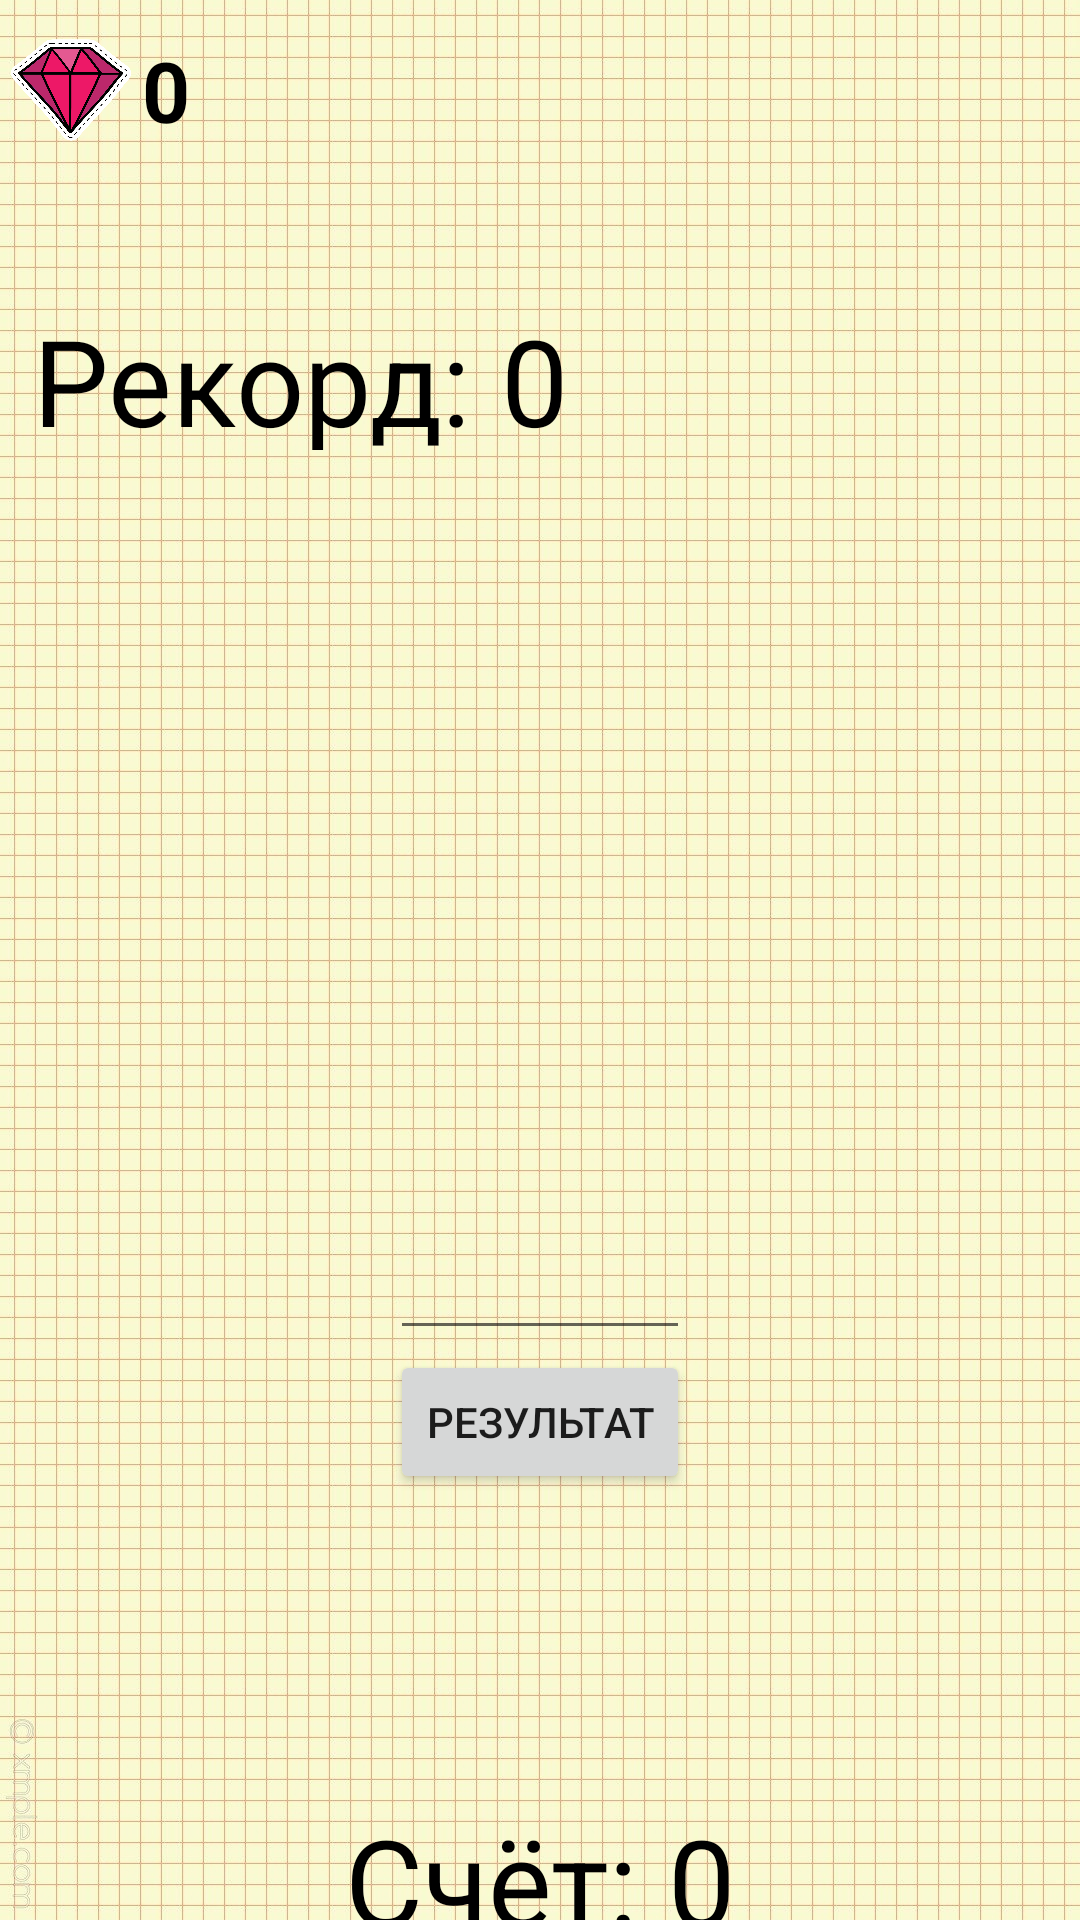

Point at icon controls on the screen. Image size 1080w x 1920h, points as [x,y].
valuta: [71,90]
